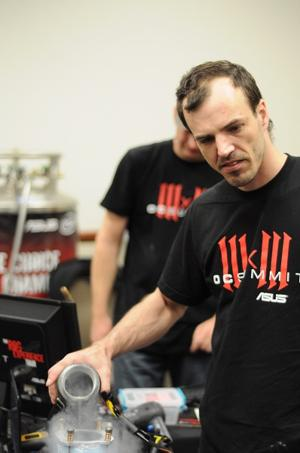person: (46, 60, 300, 453)
